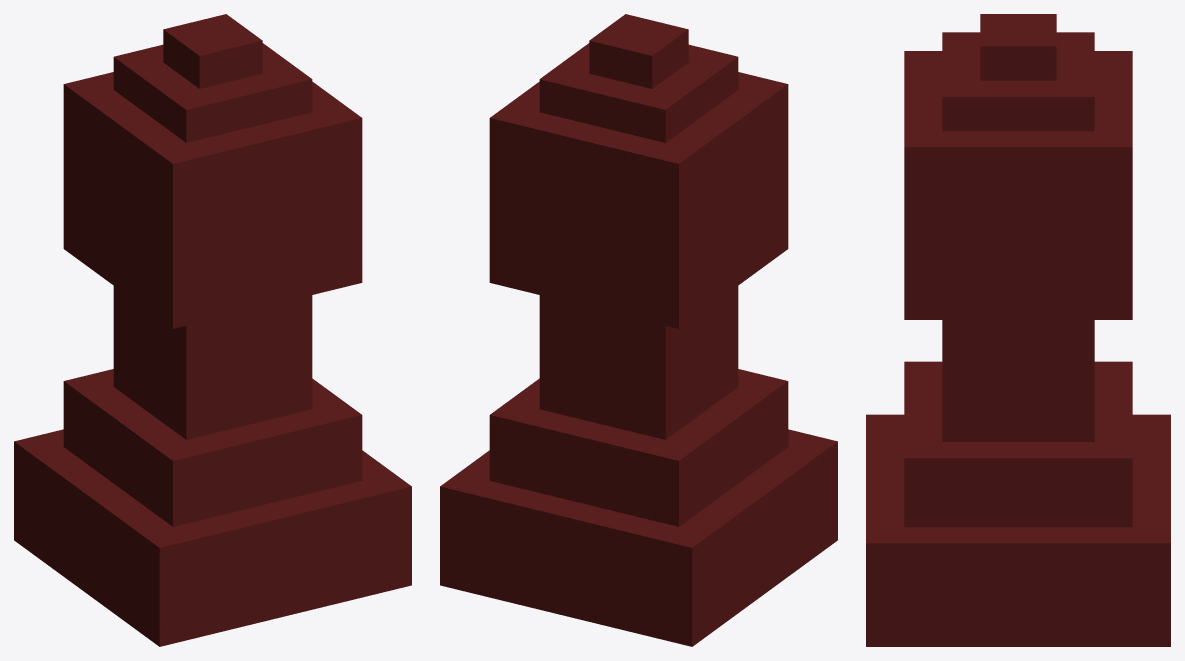
File: token-v3-red.gltf
3 views of the same model, side by side, from view 1: azimuth 30°, elevation 25°; view 2: azimuth 150°, elevation 25°; view 3: azimuth 270°, elevation 25° (orthographic). The views are drawn at different scales.
Visible parts, largest first — view 1: Untitled; view 2: Untitled; view 3: Untitled.
Part boxes in pixels (x1,y1,x2,y2): Untitled: (14, 14, 411, 646); Untitled: (440, 14, 837, 646); Untitled: (866, 14, 1170, 646).
Bounding box in the file's own units: 0.8 × 1.6 × 0.8.
Materials: 1 (1 with a texture image).
